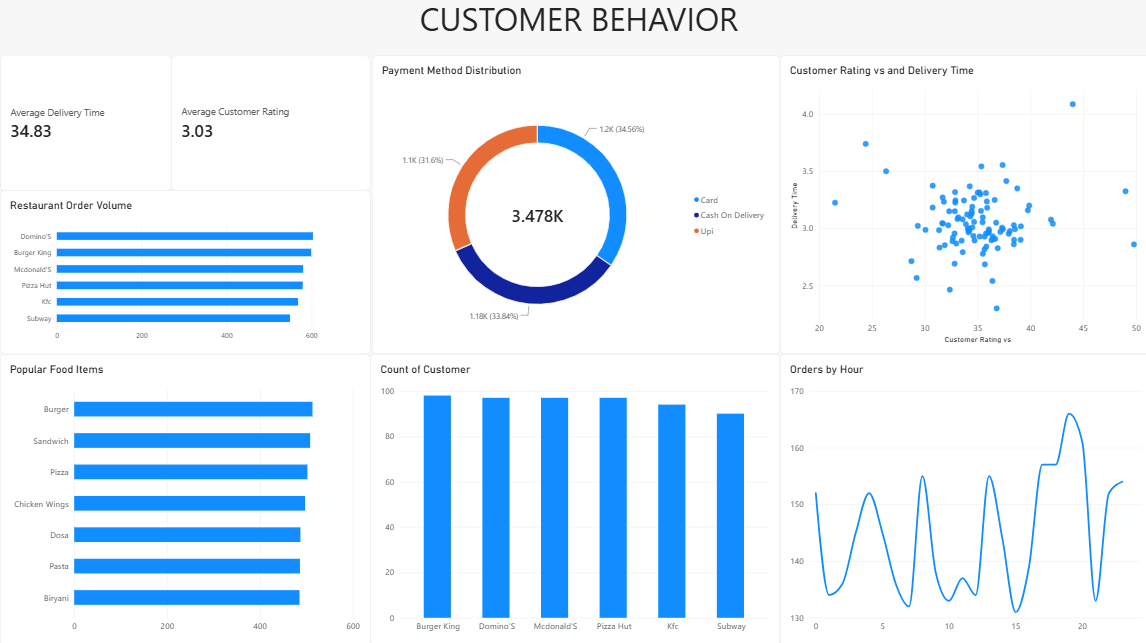

The page's visual inventory and layout, read from the dashboard file:
{"tool":"powerbi","page":{"name":"Customer Behavior","canvas":[1920,1080],"ordinal":2},"visuals":[{"type":"textbox","box":[10,0,1910,194],"z":0},{"type":"lineChart","title":"Orders by Hour","fields":{"Category":["orders_powerbi.Order Hour"],"Y":["CountNonNull(orders_powerbi.Order ID)"]},"box":[1300,595,620,485],"z":1000},{"type":"cardVisual","fields":{"Data":["customer_intelligence_final.Average Delivery Time"]},"box":[0,97.5,286,226],"z":2000},{"type":"cardVisual","fields":{"Data":["orders_powerbi.Average Customer Rating"]},"box":[285,97.5,332.5,225],"z":3000},{"type":"clusteredBarChart","title":"Popular Food Items ","fields":{"Category":["orders_powerbi.Food Items Ordered"],"Y":["CountNonNull(orders_powerbi.Order ID)"]},"box":[0,595,617.5,485],"z":4000},{"type":"clusteredBarChart","title":"Restaurant Order Volume ","fields":{"Category":["orders_powerbi.Restaurant Name"],"Y":["CountNonNull(orders_powerbi.Order ID)"]},"box":[0,322.5,617.5,272.5],"z":5000},{"type":"lineClusteredColumnComboChart","title":"Count of Customer","fields":{"Category":["orders_powerbi.Restaurant Name"],"Y":["Count(orders_powerbi.customer_id)"]},"box":[617.5,595,682.5,485],"z":6000},{"type":"donutChart","title":"Payment Method Distribution ","fields":{"Category":["orders_powerbi.Payment Method"],"Y":["Count(orders_powerbi.Order ID)"]},"box":[620,97.5,680,497.5],"z":7000},{"type":"scatterChart","title":"Customer Rating vs  and Delivery Time ","fields":{"Category":["orders_powerbi.customer_id"],"X":["Avg(orders_powerbi.Delivery Time (Minutes))"],"Y":["Avg(orders_powerbi.Customer Rating (Out of 5))"]},"box":[1300,97.5,620,497.5],"z":8000}]}

Visuals, with their boxes in screenshot pixels (x1, y1, x2, y2), scaled from the page's 1920x1080 canvas onto the 1146x643 screenshot:
textbox: rect(6, 0, 1145, 116)
"Orders by Hour" lineChart: rect(776, 354, 1145, 642)
cardVisual - customer_intelligence_final.Average Delivery Time: rect(0, 58, 171, 193)
cardVisual - orders_powerbi.Average Customer Rating: rect(170, 58, 369, 192)
"Popular Food Items " clusteredBarChart: rect(0, 354, 369, 642)
"Restaurant Order Volume " clusteredBarChart: rect(0, 192, 369, 354)
"Count of Customer" lineClusteredColumnComboChart: rect(369, 354, 776, 642)
"Payment Method Distribution " donutChart: rect(370, 58, 776, 354)
"Customer Rating vs  and Delivery Time " scatterChart: rect(776, 58, 1145, 354)
